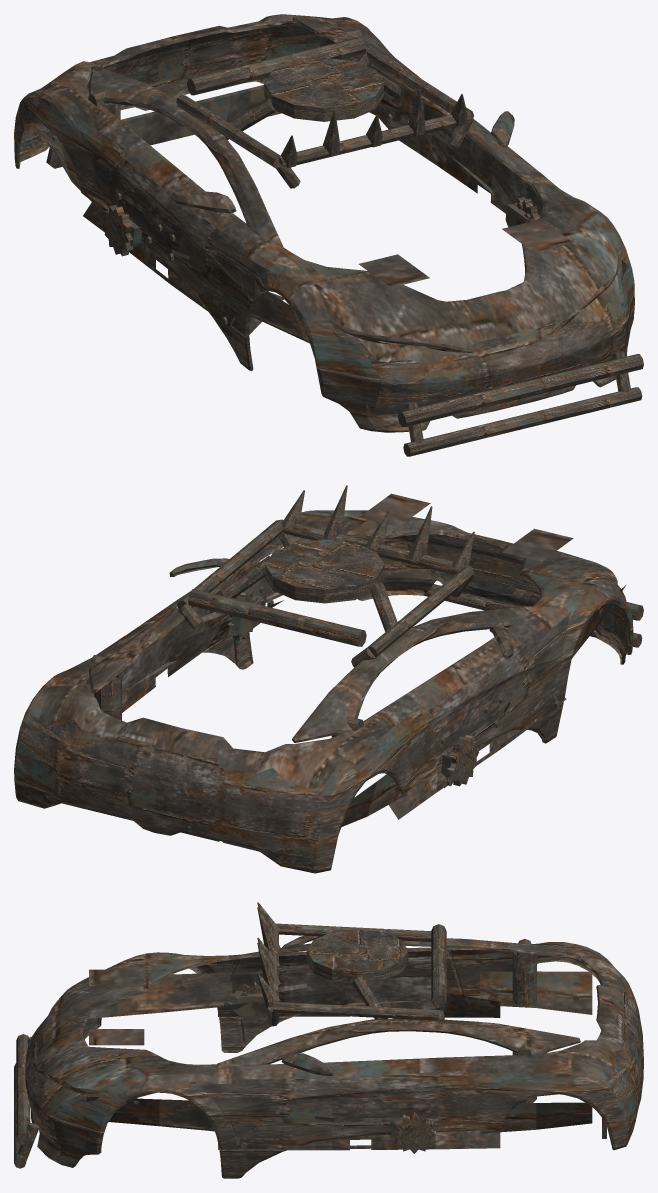
The model's file is aurora_gt.glb.
3 renders of one model, top to bottom at view 1: azimuth 30°, elevation 25°; view 2: azimuth 150°, elevation 25°; view 3: azimuth 270°, elevation 25°, orthographic. The views are drawn at different scales.
Parts seen in each view (by area): view 1: kit-full-plating-painted-metal, kit-bull-bar-painted-metal, kit-turret-mount-painted-metal, kit-cage-painted-metal, kit-scrapper-painted-metal, kit-raider-painted-metal, warlord-crossbar, kit-crown-painted-metal, kit-plate-2-painted-metal, kit-saw-0-guard-painted-metal, kit-plate-1-painted-metal, kit-saw-1-painted-metal; view 2: kit-full-plating-painted-metal, kit-turret-mount-painted-metal, kit-cage-painted-metal, kit-raider-painted-metal, warlord-crossbar, kit-scrapper-painted-metal, kit-crown-painted-metal, kit-plate-3-painted-metal, kit-bull-bar-painted-metal, kit-saw-0-guard-painted-metal, kit-stack-1-painted-metal, kit-saw-1-painted-metal (+1 smaller); view 3: kit-full-plating-painted-metal, kit-turret-mount-painted-metal, kit-raider-painted-metal, kit-scrapper-painted-metal, kit-plate-2-painted-metal, kit-cage-painted-metal, kit-plate-3-painted-metal, kit-plate-0-painted-metal, kit-plate-1-painted-metal, kit-bull-bar-painted-metal, kit-crown-painted-metal, kit-saw-0-painted-metal (+3 smaller).
Boxes of the visible parts, left/top/right/bottom form: kit-full-plating-painted-metal: left=14, top=14, right=634, bottom=432; kit-bull-bar-painted-metal: left=398, top=351, right=643, bottom=456; kit-turret-mount-painted-metal: left=224, top=57, right=401, bottom=139; kit-cage-painted-metal: left=176, top=48, right=474, bottom=188; kit-scrapper-painted-metal: left=115, top=115, right=542, bottom=320; kit-raider-painted-metal: left=83, top=113, right=511, bottom=337; warlord-crossbar: left=187, top=37, right=365, bottom=95; kit-crown-painted-metal: left=280, top=89, right=467, bottom=167; kit-plate-2-painted-metal: left=251, top=292, right=345, bottom=343; kit-saw-0-guard-painted-metal: left=103, top=205, right=141, bottom=256; kit-plate-1-painted-metal: left=369, top=67, right=410, bottom=124; kit-saw-1-painted-metal: left=505, top=197, right=540, bottom=227; kit-full-plating-painted-metal: left=14, top=493, right=633, bottom=873; kit-turret-mount-painted-metal: left=220, top=539, right=397, bottom=631; kit-cage-painted-metal: left=177, top=519, right=474, bottom=667; kit-raider-painted-metal: left=122, top=599, right=566, bottom=819; warlord-crossbar: left=188, top=589, right=366, bottom=646; kit-scrapper-painted-metal: left=122, top=586, right=559, bottom=751; kit-crown-painted-metal: left=282, top=485, right=474, bottom=570; kit-plate-3-painted-metal: left=341, top=757, right=409, bottom=826; kit-bull-bar-painted-metal: left=423, top=577, right=643, bottom=647; kit-saw-0-guard-painted-metal: left=441, top=735, right=478, bottom=786; kit-stack-1-painted-metal: left=89, top=655, right=126, bottom=720; kit-saw-1-painted-metal: left=227, top=590, right=266, bottom=641; kit-full-plating-painted-metal: left=25, top=935, right=643, bottom=1178; kit-turret-mount-painted-metal: left=306, top=929, right=408, bottom=1019; kit-raider-painted-metal: left=218, top=991, right=500, bottom=1150; kit-scrapper-painted-metal: left=230, top=972, right=444, bottom=1139; kit-plate-2-painted-metal: left=87, top=972, right=232, bottom=1018; kit-cage-painted-metal: left=267, top=923, right=444, bottom=1026; kit-plate-3-painted-metal: left=480, top=971, right=592, bottom=1014; kit-plate-0-painted-metal: left=86, top=1096, right=214, bottom=1131; kit-plate-1-painted-metal: left=480, top=1102, right=592, bottom=1133; kit-bull-bar-painted-metal: left=14, top=1034, right=39, bottom=1168; kit-crown-painted-metal: left=257, top=902, right=280, bottom=1007; kit-saw-0-painted-metal: left=390, top=1112, right=436, bottom=1153.
Bounding box in the file's own units: 2.7 × 1.67 × 4.93.
Materials: 1 (1 with a texture image).
